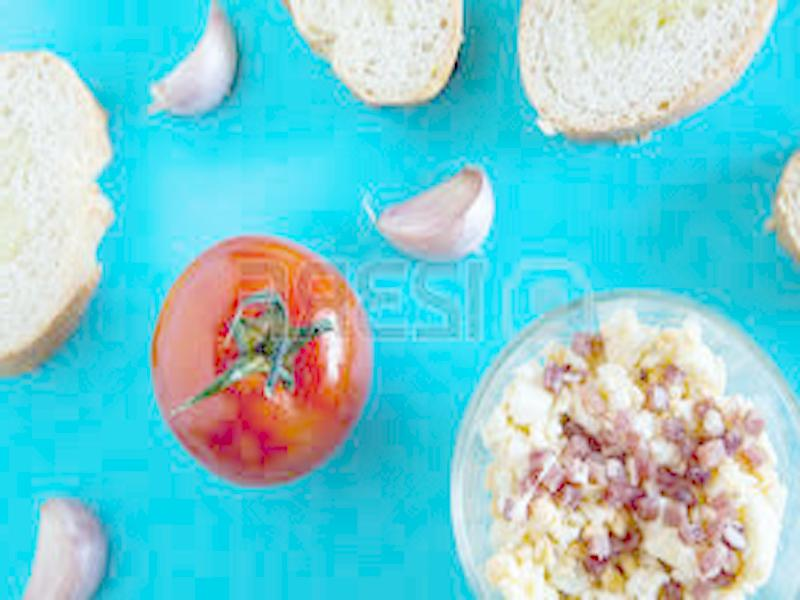Tomato: (150, 233, 363, 485)
